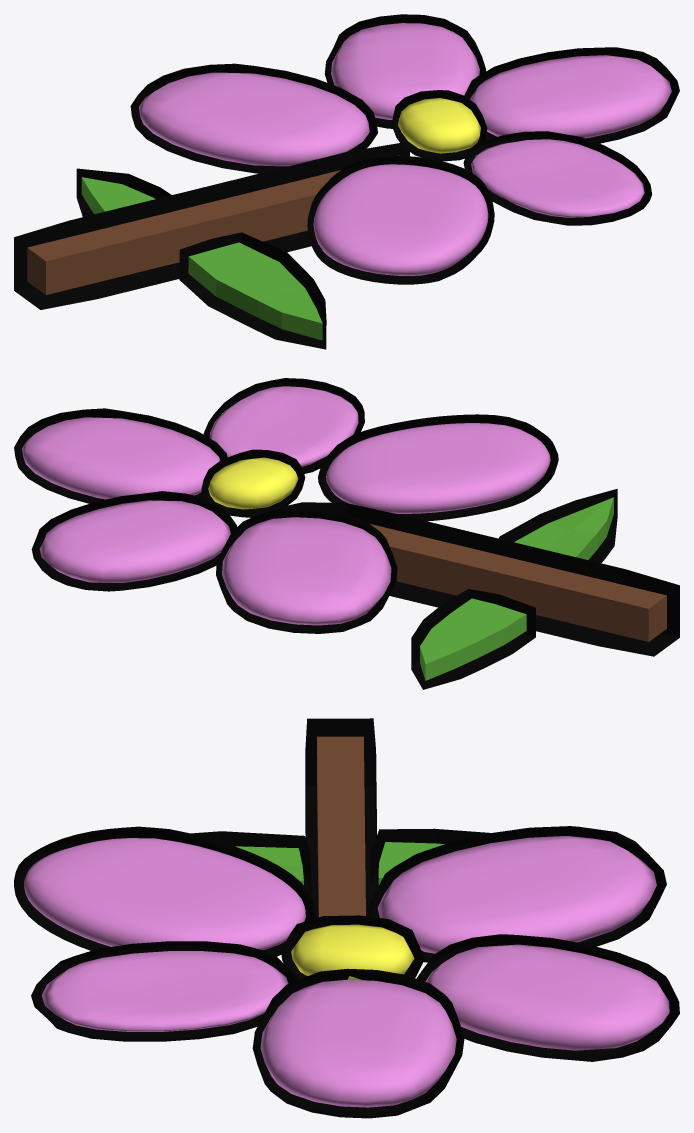
Rendered from stage_3_kertas.fbx.
3 renders of one model, top to bottom at view 1: azimuth 30°, elevation 25°; view 2: azimuth 150°, elevation 25°; view 3: azimuth 270°, elevation 25°, orthographic. The views are drawn at different scales.
Parts seen in each view (by area): view 1: Plane.015, Plane.023, Plane.022, Plane.019, Plane.020, Plane.017, Plane.024, Plane.021, Plane.018; view 2: Plane.015, Plane.022, Plane.023, Plane.017, Plane.019, Plane.020, Plane.018, Plane.021, Plane.024; view 3: Plane.022, Plane.023, Plane.019, Plane.017, Plane.020, Plane.015, Plane.021, Plane.024, Plane.018.
Part boxes in pixels (box(x1,y1,x2,y2)): Plane.015: box(14, 141, 409, 309); Plane.023: box(130, 63, 377, 173); Plane.022: box(307, 155, 494, 284); Plane.019: box(464, 47, 679, 143); Plane.020: box(463, 131, 652, 225); Plane.017: box(324, 14, 486, 128); Plane.024: box(179, 232, 326, 349); Plane.021: box(391, 90, 487, 161); Plane.018: box(76, 168, 171, 216); Plane.015: box(267, 502, 679, 656); Plane.022: box(318, 414, 558, 521); Plane.023: box(216, 508, 397, 633); Plane.017: box(31, 491, 237, 591); Plane.019: box(14, 408, 227, 503); Plane.020: box(203, 378, 364, 473); Plane.018: box(411, 589, 535, 689); Plane.021: box(201, 449, 305, 517); Plane.024: box(498, 488, 617, 563); Plane.022: box(14, 826, 315, 956); Plane.023: box(367, 826, 666, 962); Plane.019: box(252, 968, 464, 1118); Plane.017: box(416, 934, 679, 1061); Plane.020: box(31, 941, 297, 1041); Plane.015: box(305, 718, 378, 917); Plane.021: box(281, 915, 424, 980); Plane.024: box(190, 831, 310, 894); Plane.018: box(370, 828, 490, 887).
Bounding box in the file's own units: 120 × 18.4 × 85.18.
